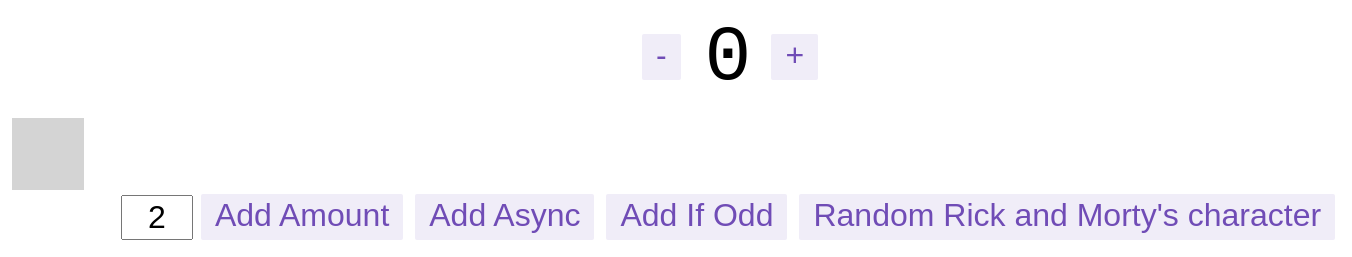
Scenario: <Counter /> Tests › should add 1 when clicked plus button
The width and height of the screenshot is (1352, 257).
Click the button "+": click(795, 57) [771,34,818,80]
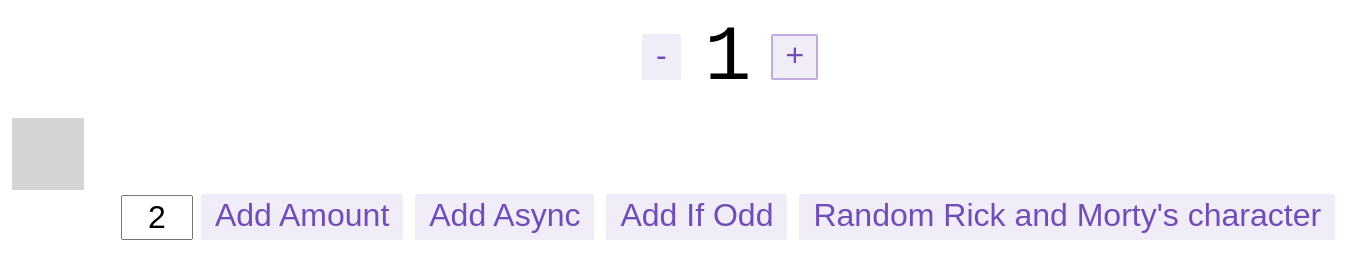
Expected: the text "1" is shown, [705,14,751,102]
